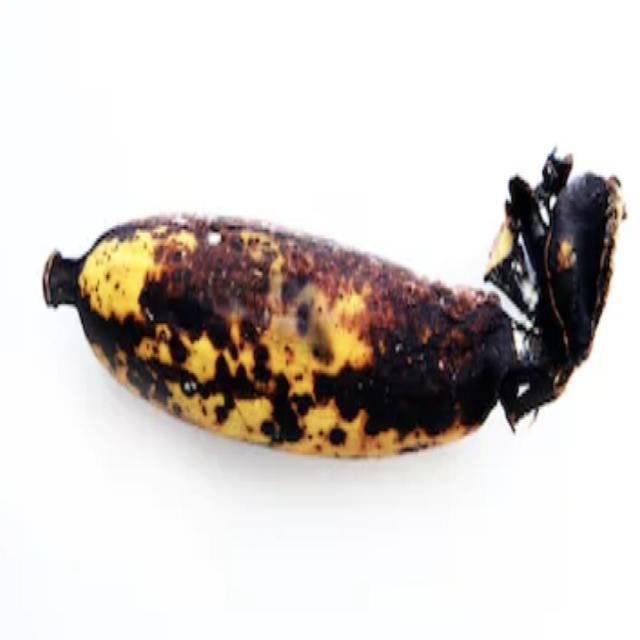rotten-banana: (41, 143, 628, 460)
